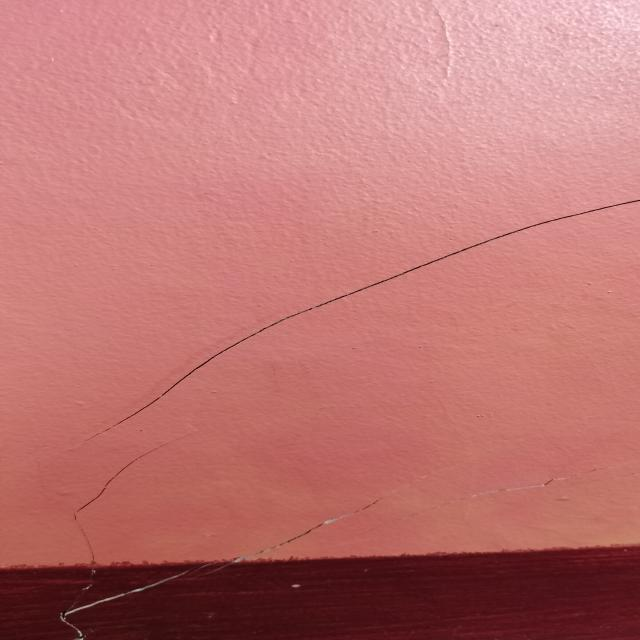Crack: (71, 198, 640, 440)
